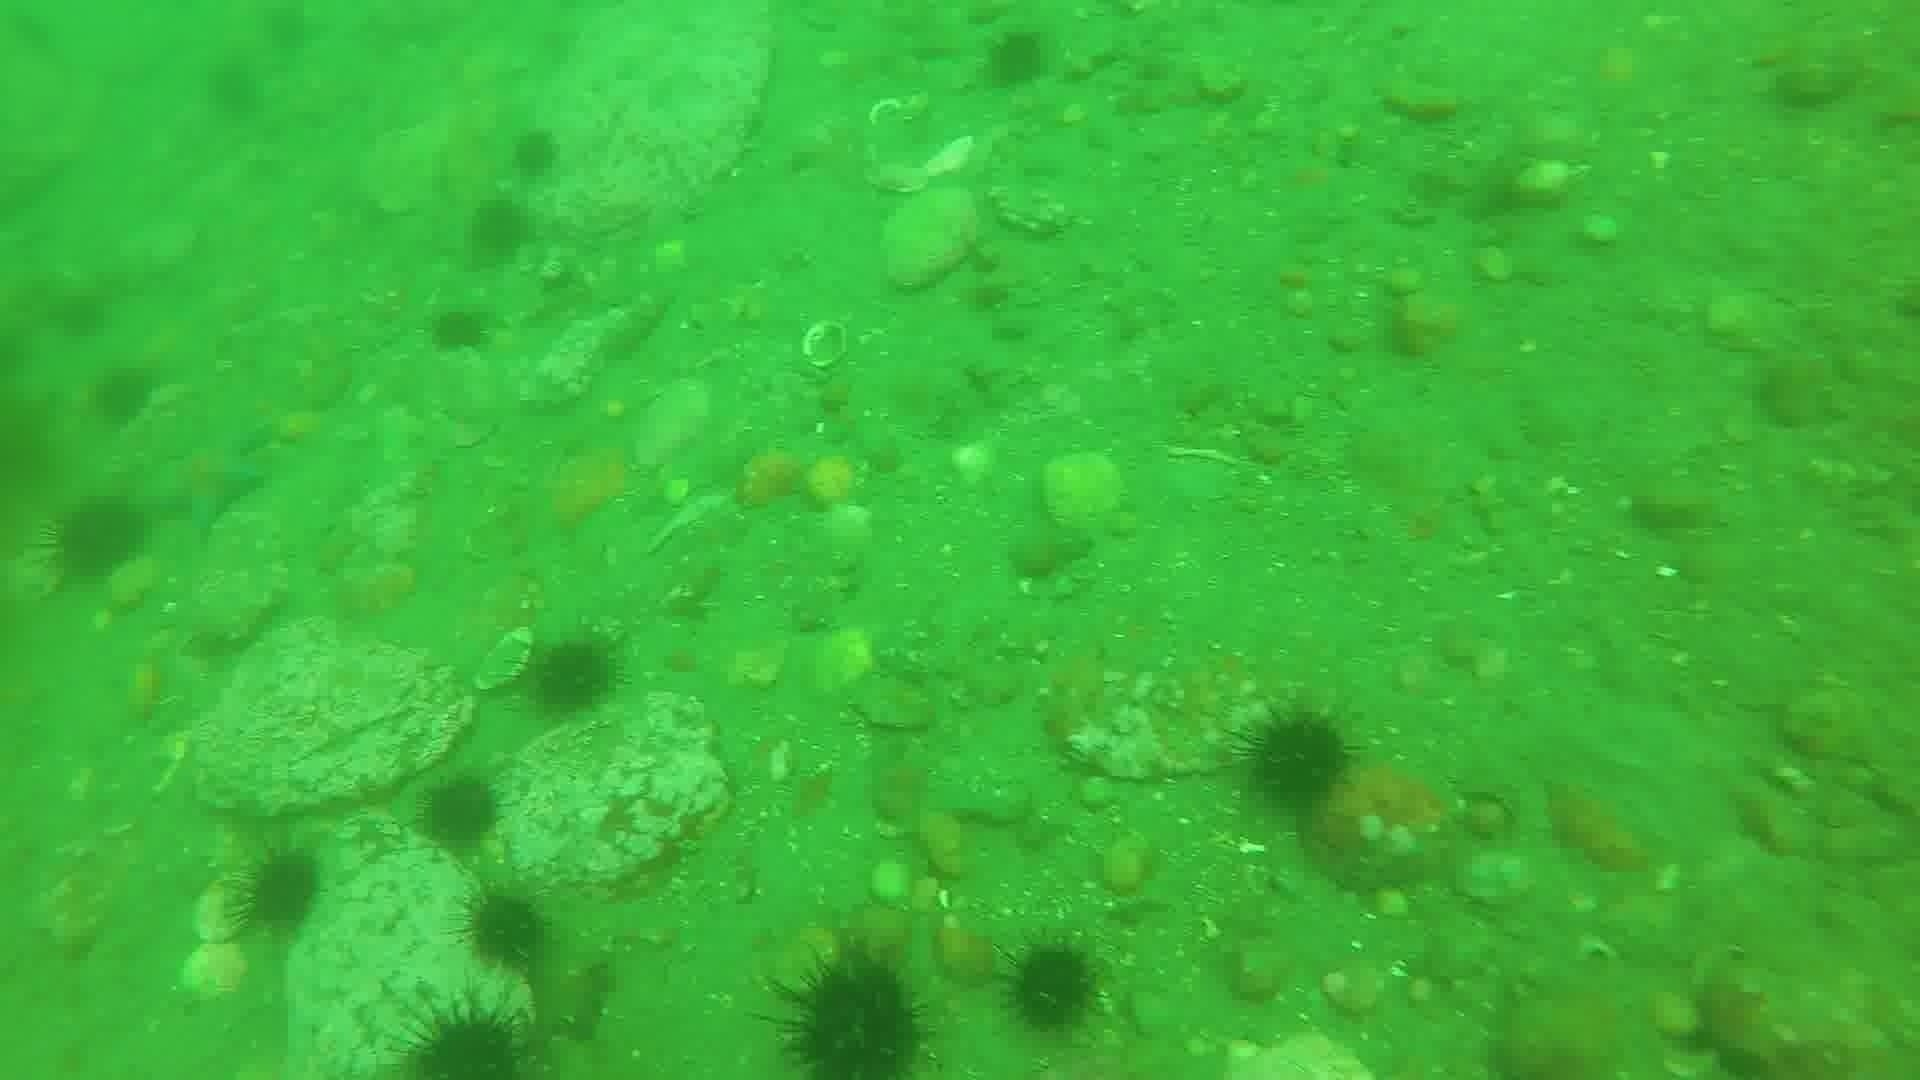echinus: (773, 948, 932, 1077), (1237, 705, 1357, 815), (390, 1001, 531, 1075), (1001, 939, 1104, 1038), (44, 493, 152, 587), (232, 845, 328, 940), (524, 634, 622, 720), (458, 886, 553, 973), (413, 771, 506, 856), (462, 195, 535, 268), (978, 26, 1055, 94), (86, 363, 160, 431), (425, 303, 496, 360), (505, 123, 564, 183)
starfish: (138, 436, 270, 538), (516, 440, 638, 547)
